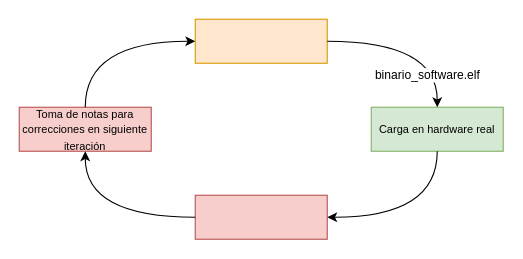
Image size: 523x259. Some labels were removed from this diagram. Each missing label, with the box of its shape:
Desarrollo de Software: (194, 18, 327, 63)
Pruebas de funcionamiento (manual): (194, 194, 327, 239)
